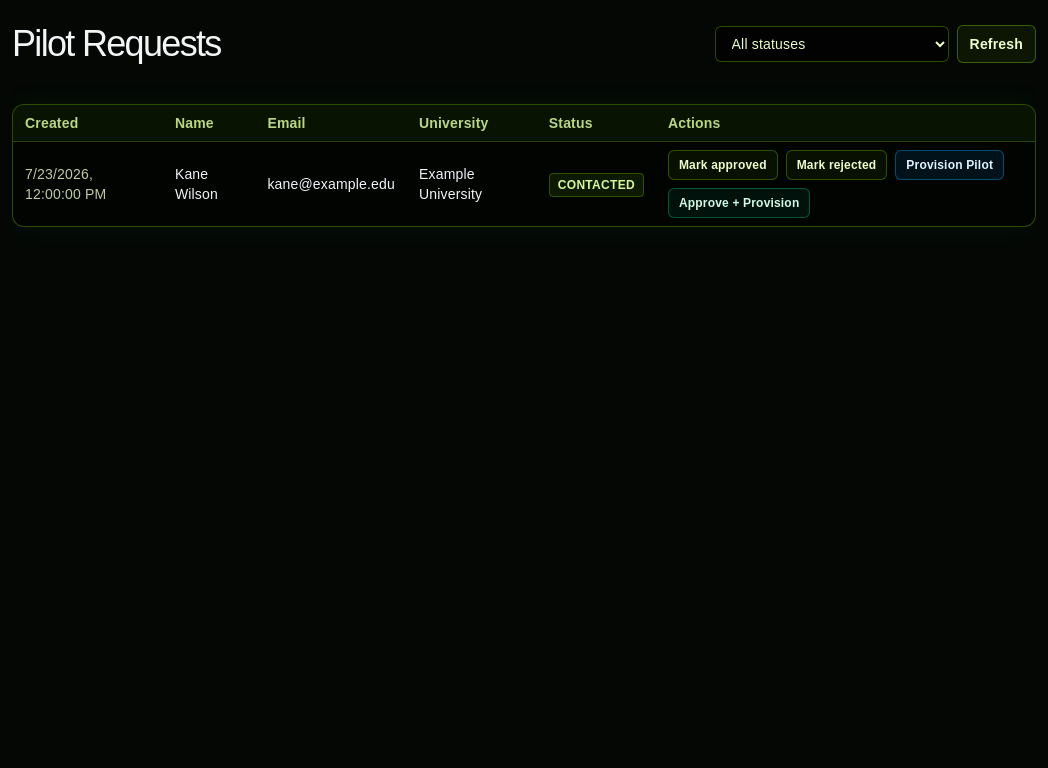
Test case: PilotRequestsAdminPage › manually provisions a pilot and refreshes the list
Click the button "Provision Pilot": (950, 165) [895, 150, 1004, 180]
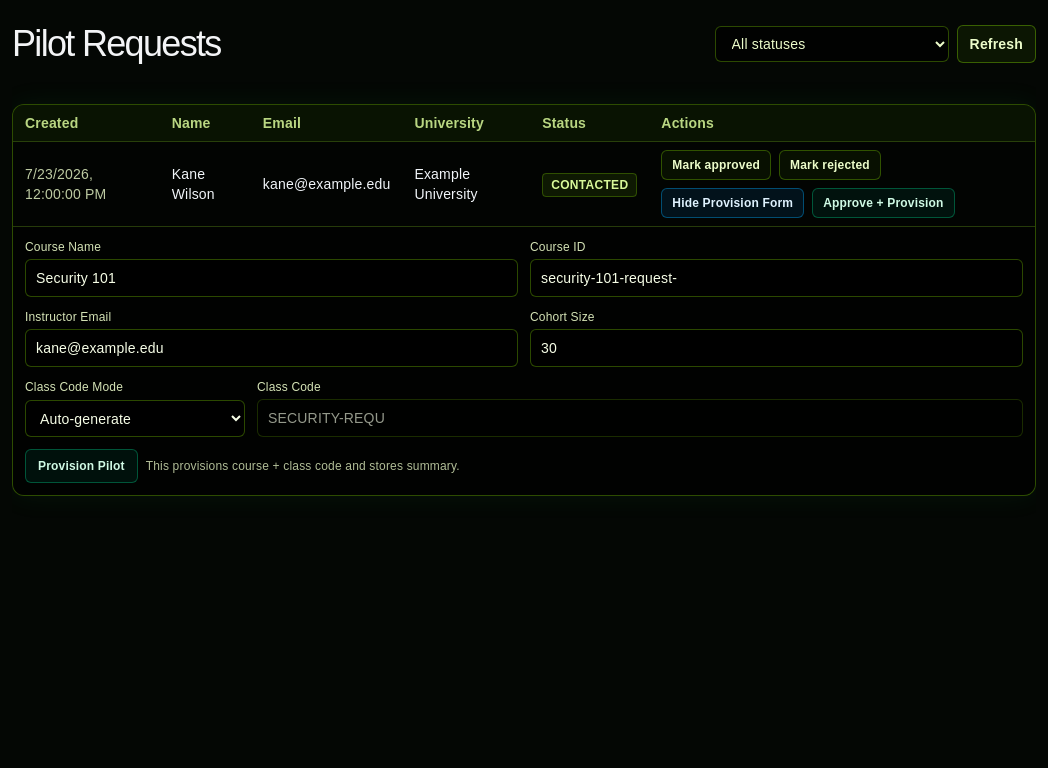
Click the button "Provision Pilot": (81, 466) [25, 449, 138, 483]
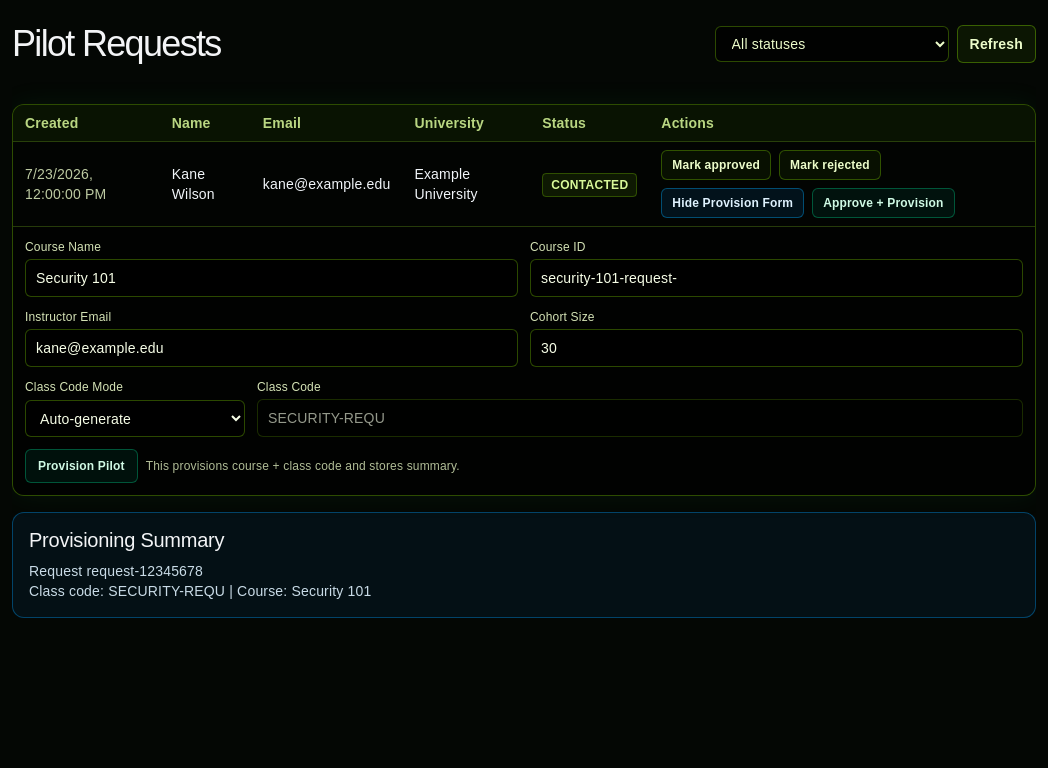
expect the heading "Provisioning Summary" is shown: met, box [29, 529, 224, 551]
